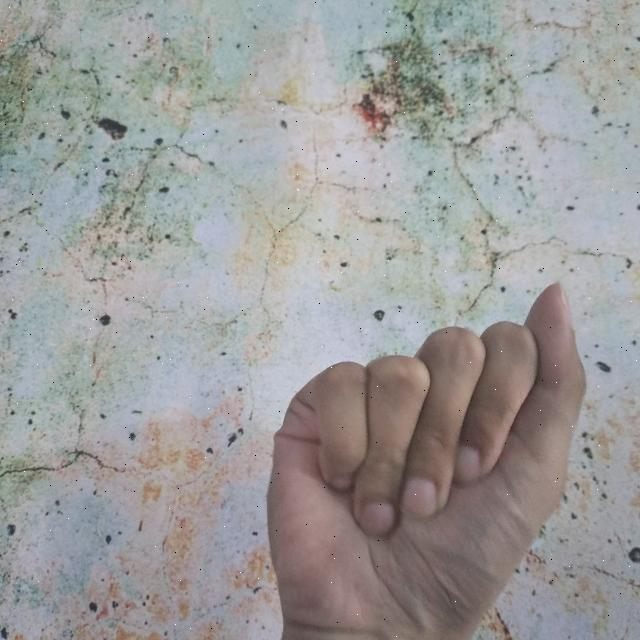A: (256, 272, 594, 640)
